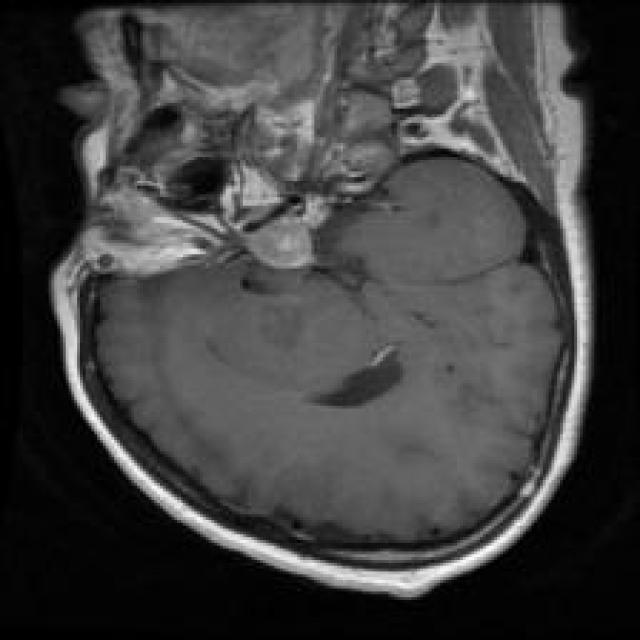pituitary_tumor: (220, 202, 332, 292)
